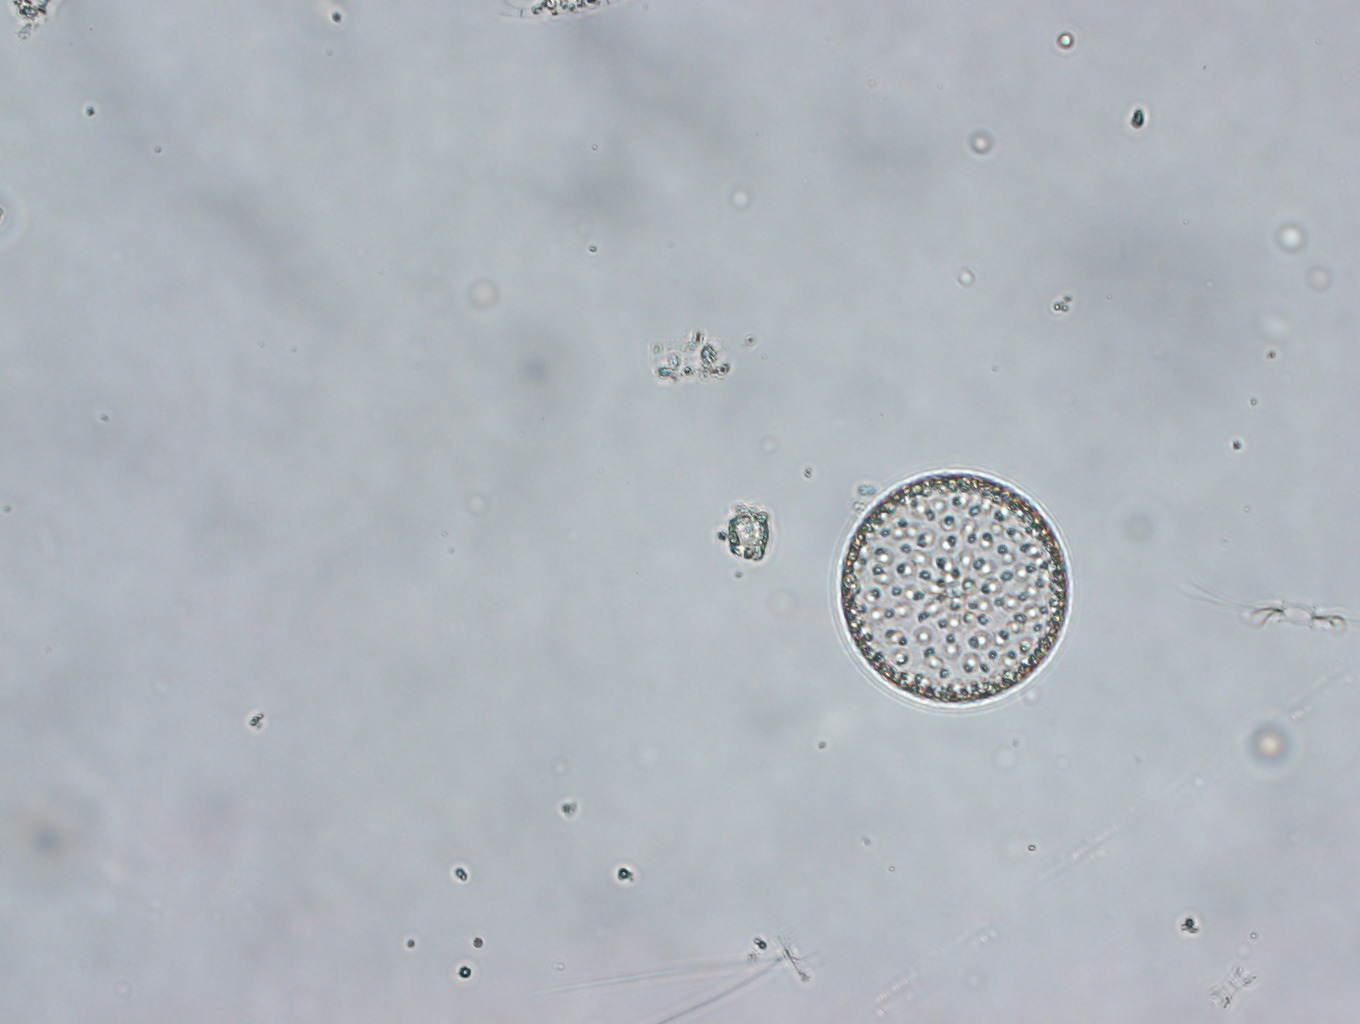coscinodiscus: (838, 469, 1070, 709)
